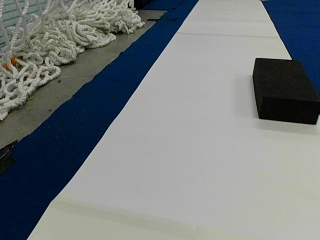block: (252, 57, 319, 124)
